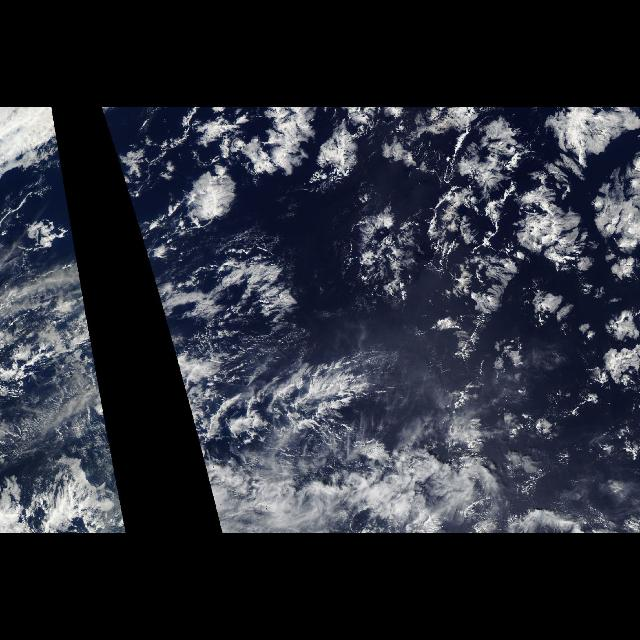Fish: (177, 354, 416, 452)
Flower: (138, 108, 640, 396)
